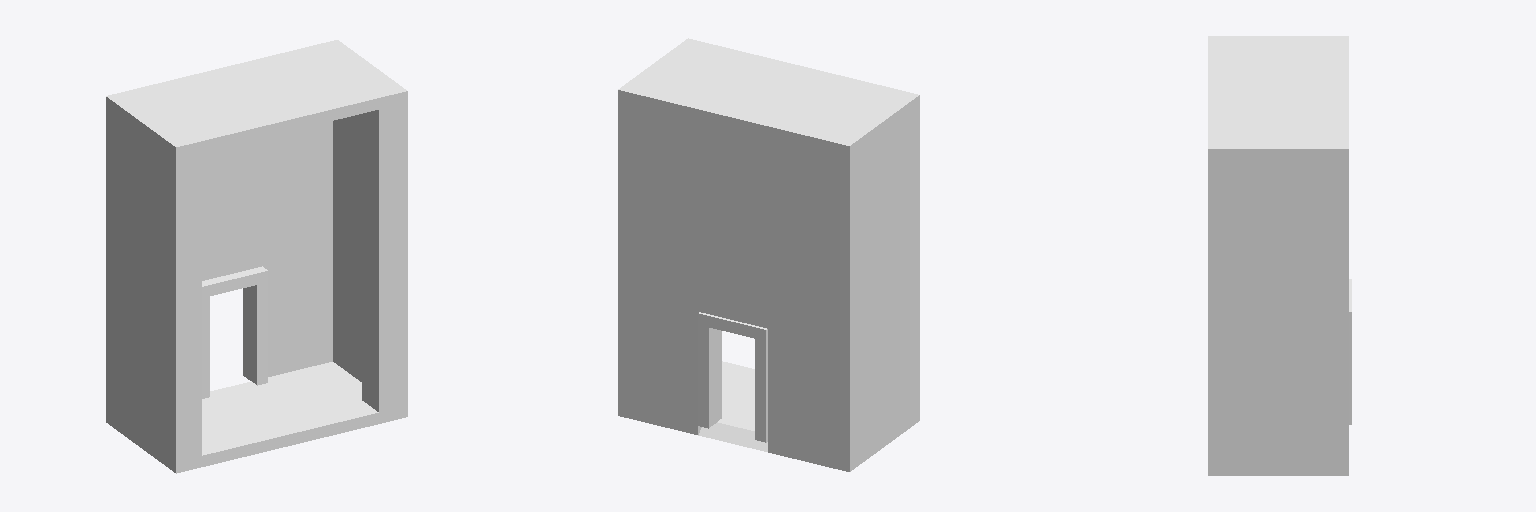
File: door_connector_corridor.obj
3 views of the same model, side by side, from view 1: azimuth 30°, elevation 25°; view 2: azimuth 150°, elevation 25°; view 3: azimuth 270°, elevation 25° (orthographic).
Visible parts, largest first — view 1: Form31, MonDoorA; view 2: Form31, MonDoorA; view 3: Form31.
Boxes of the visible parts, x1,y1,x2,y2 form: Form31: [106, 40, 407, 473]; MonDoorA: [202, 266, 267, 398]; Form31: [618, 38, 919, 471]; MonDoorA: [698, 312, 767, 442]; Form31: [1208, 36, 1348, 475].
Size of the model in its own units: 203 by 273 by 109.